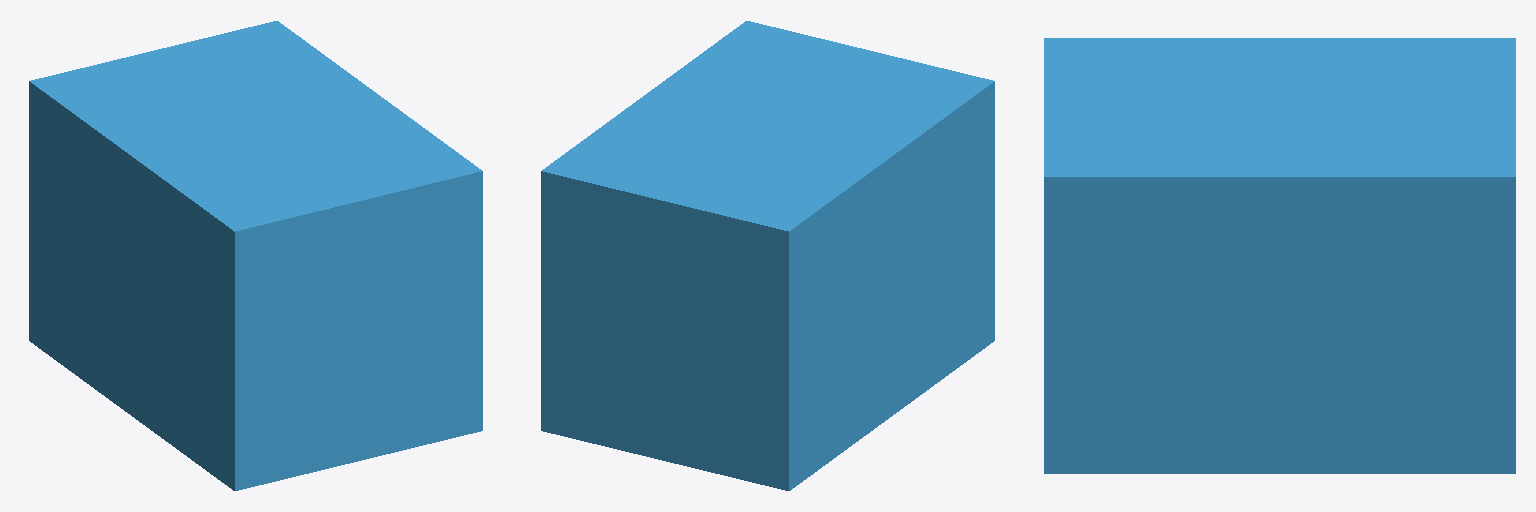
URDF robot description (right-pull-door):
<?xml version="1.0" ?>
<robot name="right-pull-door">
	<link name="base"/>
	<link name="link_0">
		<visual name="out-frame">
			<origin xyz="0 0 0"/>
			<geometry>
				<mesh filename="texture_dae/frame.dae" scale="0.6 0.6 0.6"/>
			</geometry>
		</visual>
		<collision>
			<origin xyz="0 0 0"/>
			<geometry>
				<mesh filename="texture_dae/frame.dae" scale="0.6 0.6 0.6"/>
			</geometry>
		</collision>
	</link>
	<joint name="joint_0" type="fixed">
		<origin rpy="1.570796326794897 0 -1.570796326794897" xyz="0 0 0"/>
		<child link="link_0"/>
		<parent link="base"/>
	</joint>
	<link name="link_1">
		<visual name="surf-board">
			<origin xyz="0.3891704295051211 0 0"/>
			<geometry>
				<mesh filename="texture_dae/board.dae" scale="0.6 0.6 0.6"/>
			</geometry>
		</visual>
		<collision>
			<origin xyz="0.3891704295051211 0 0"/>
			<geometry>
				<mesh filename="texture_dae/board.dae" scale="0.6 0.6 0.6"/>
			</geometry>
		</collision>
	</link>
	<joint name="joint_1" type="revolute">
		<origin xyz="-0.3891704295051211 0 0"/>
		<axis xyz="0 -1 0"/>
		<child link="link_1"/>
		<parent link="link_0"/>
		<limit lower="0" upper="1.5079644737231006"/>
	</joint>
	<link name="link_2">
		<visual name="handle">
			<origin xyz="0 0 0"/>
			<geometry>
				<mesh filename="texture_dae/9961210.dae" scale="0.5 0.5 0.5"/>
			</geometry>
		</visual>
		<collision>
			<origin xyz="0 0 0"/>
			<geometry>
				<mesh filename="texture_dae/9961210.dae" scale="0.5 0.5 0.5"/>
			</geometry>
		</collision>
	</link>
	<joint name="joint_2" type="revolute">
		<origin xyz="0.3891704295051211 0 0.000788097386511098"/>
		<child link="link_2"/>
		<parent link="link_1"/>
		<axis xyz="0 0 1"/>
		<limit lower="0" upper="1.5079644737231006"/>
	</joint>
</robot>

--- Render facts (derived) ---
Views: 3 orthographic renders of the robot side by side, from view 1: azimuth 30°, elevation 25°; view 2: azimuth 150°, elevation 25°; view 3: azimuth 270°, elevation 25°.
Robot: right-pull-door — 4 links, 3 joints (2 revolute, 1 fixed); root link base; default pose: all joints at 0.
Visible links, largest first — view 1: link_0; view 2: link_0; view 3: link_0.
Boxes of the visible links, <box> form: link_0: <box>29,21,482,490</box>; link_0: <box>541,21,994,490</box>; link_0: <box>1044,38,1515,473</box>.
Size in the robot's own frame: 0.5704 by 0.8187 by 0.6027 metres.
3 mesh visuals loaded from 3 distinct referenced files (3 Collada DAE).
